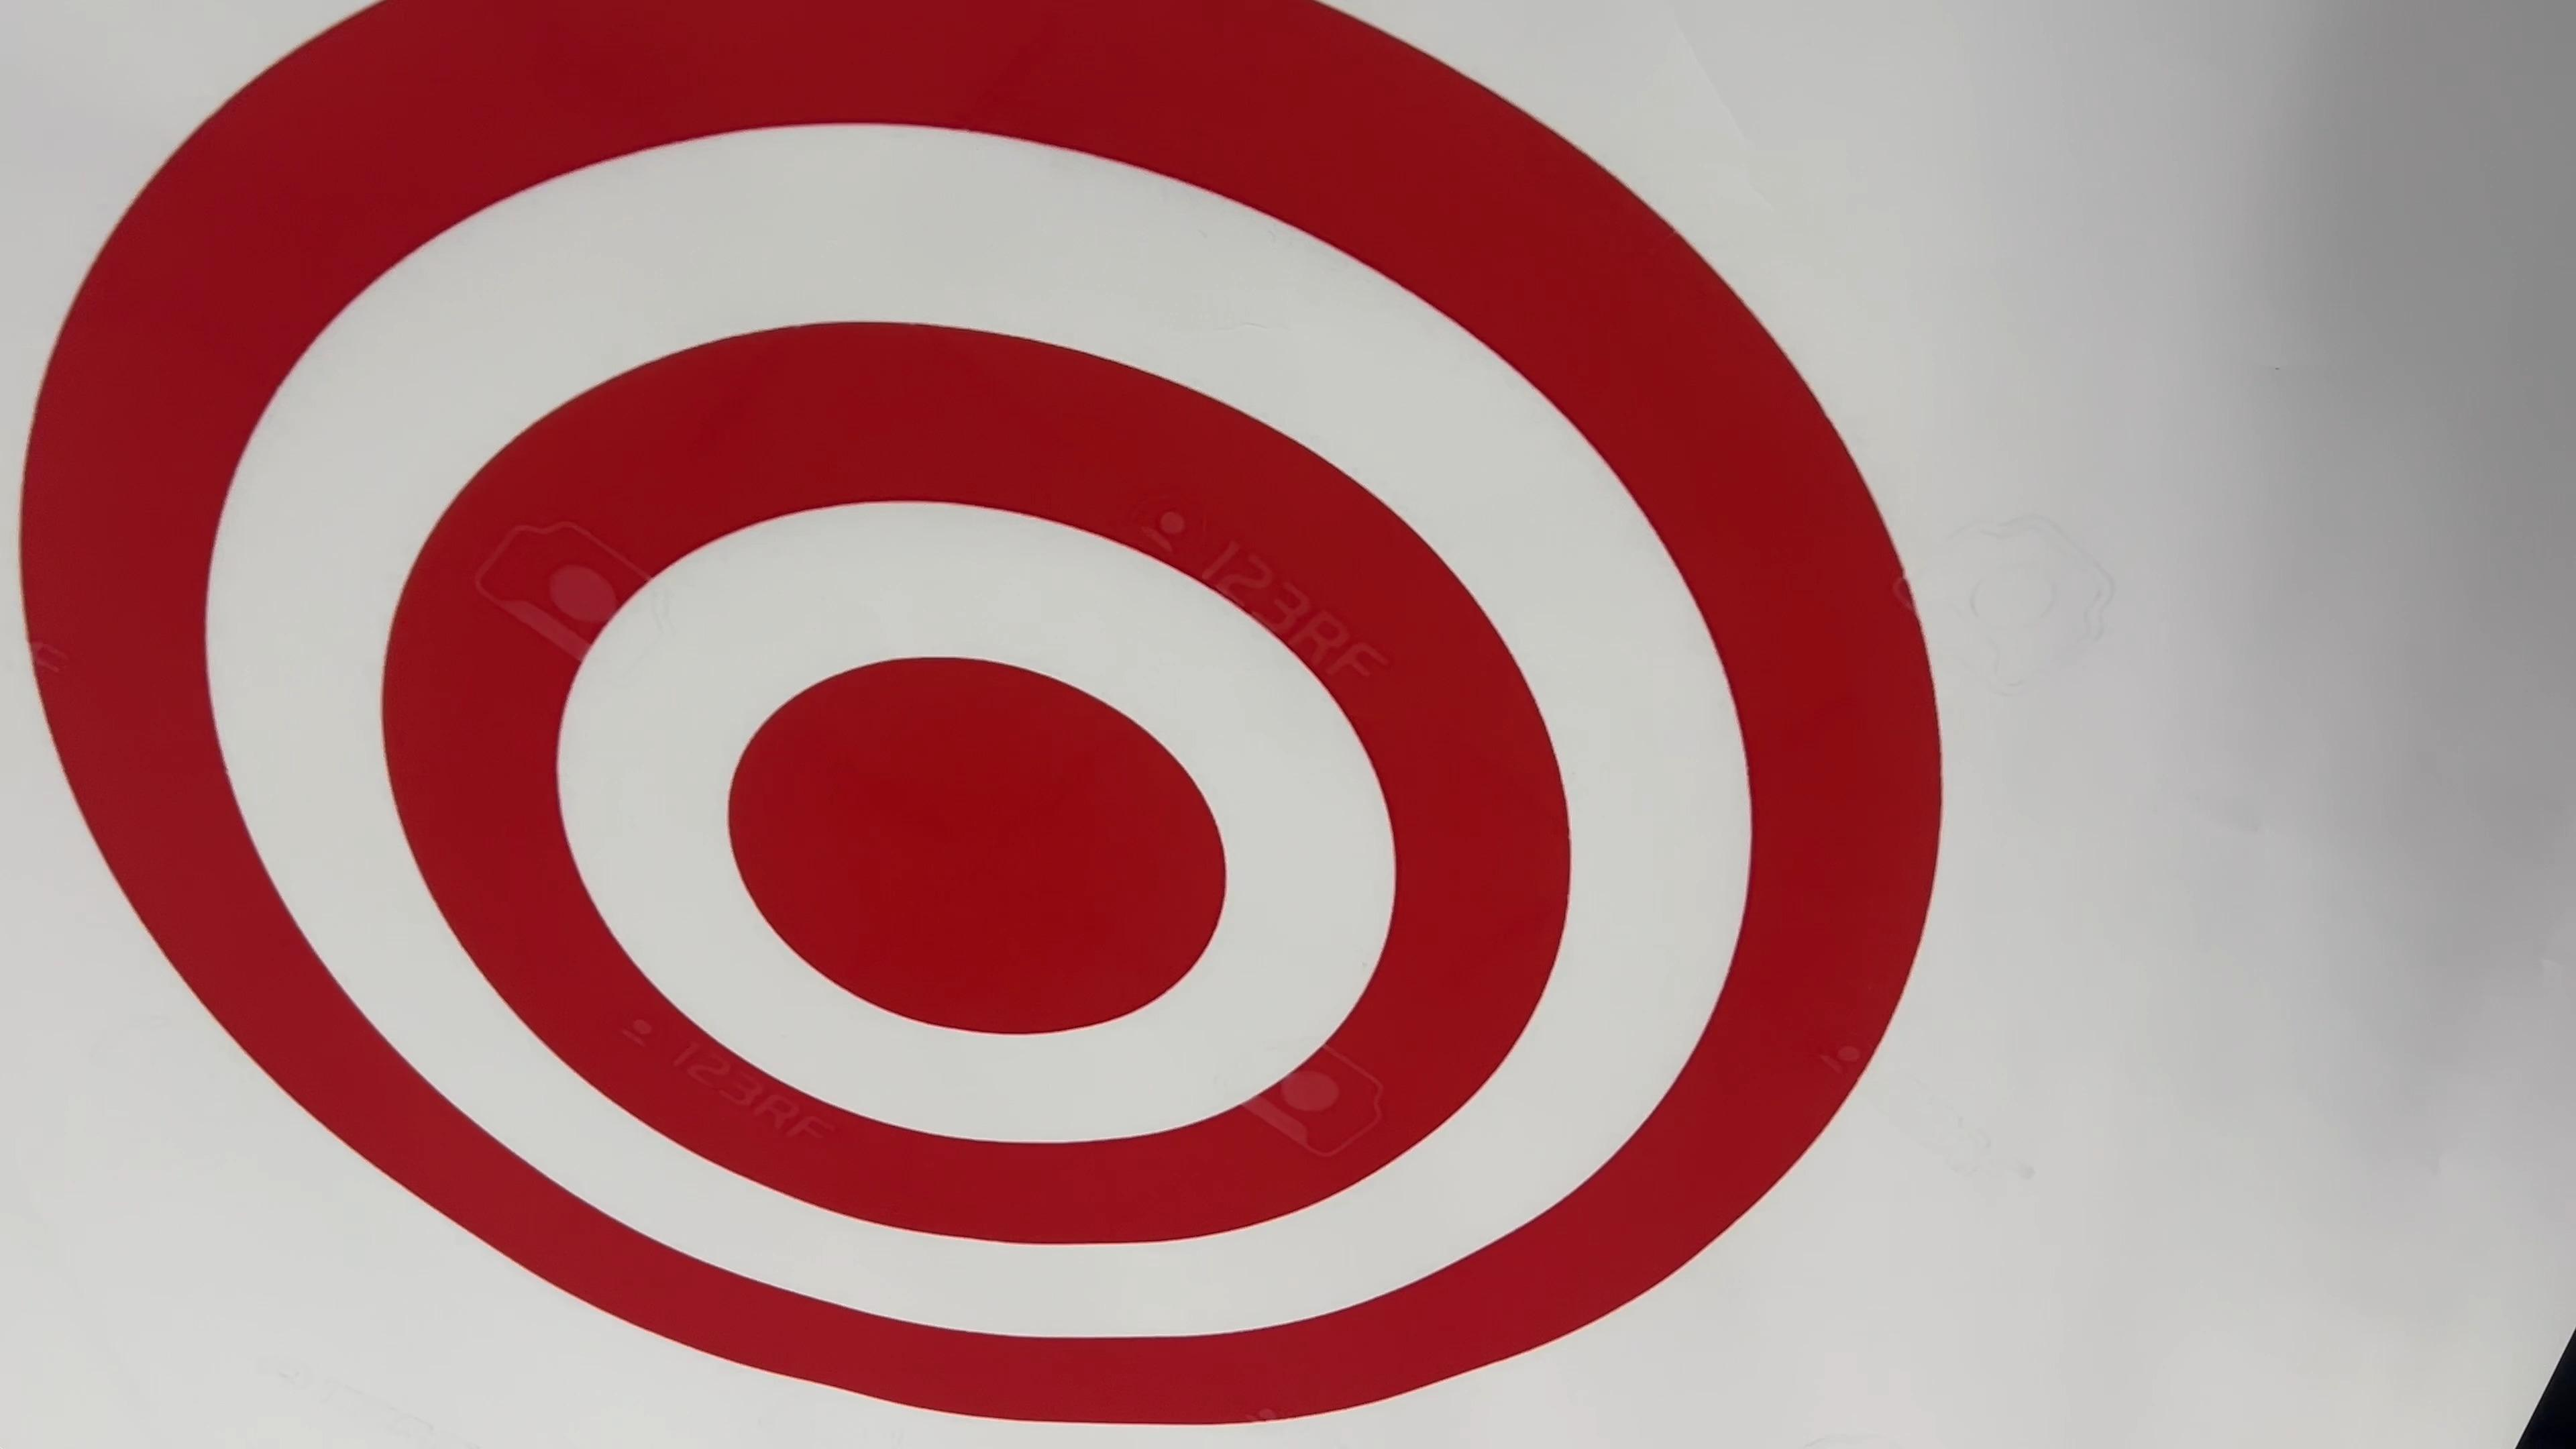target_red: (48, 2, 2005, 1449)
